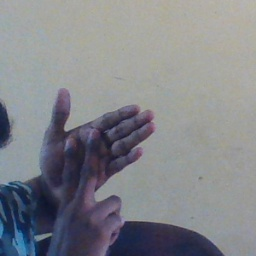N: (32, 84, 158, 256)
